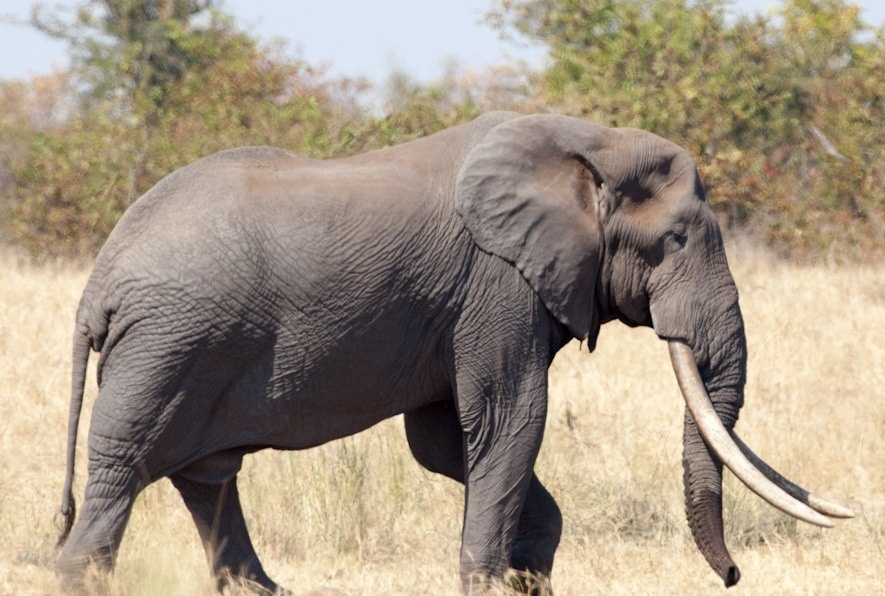elephant: (57, 109, 854, 590)
